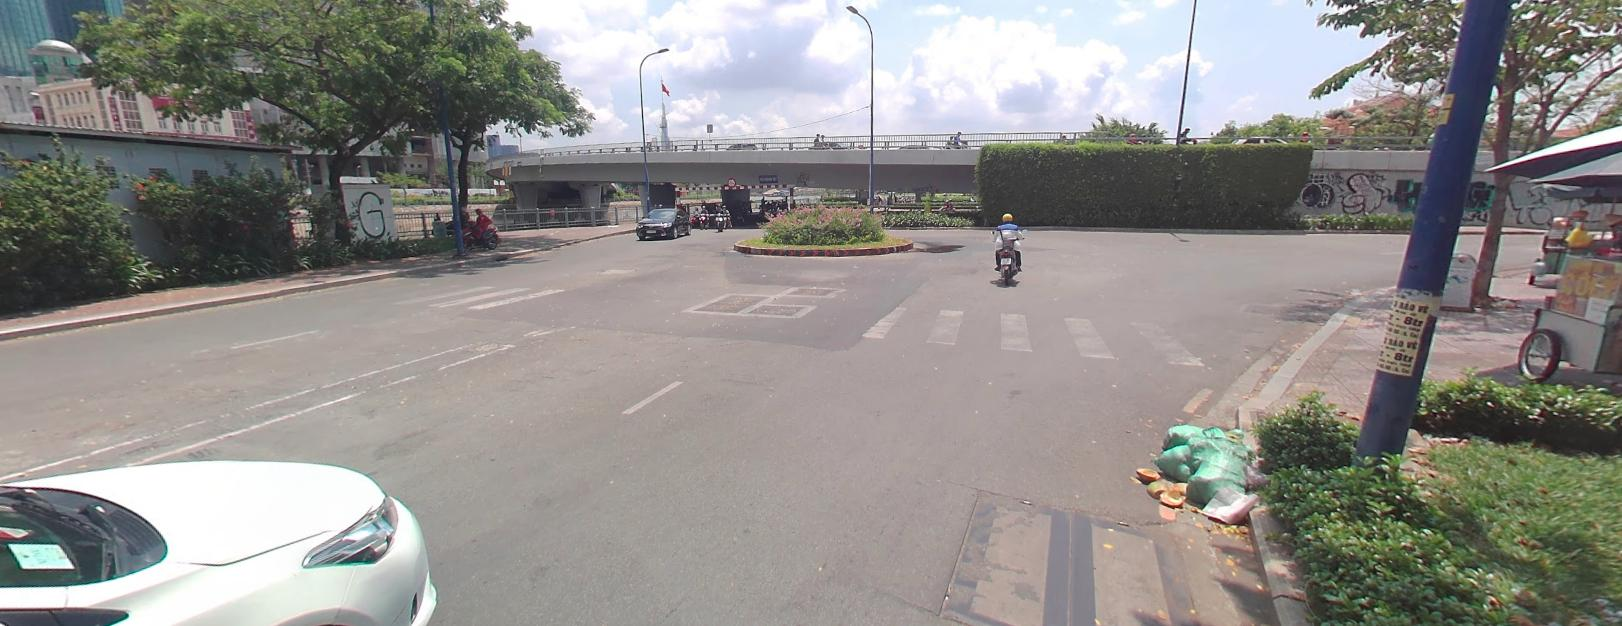Cam con lai: (727, 176, 735, 185)
